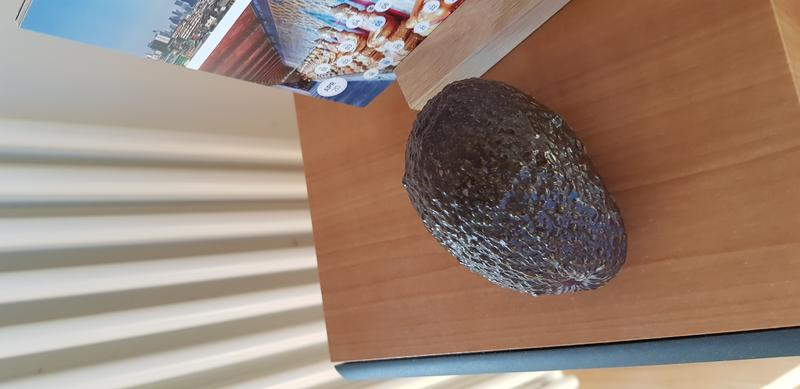Avocado: (371, 64, 645, 304)
